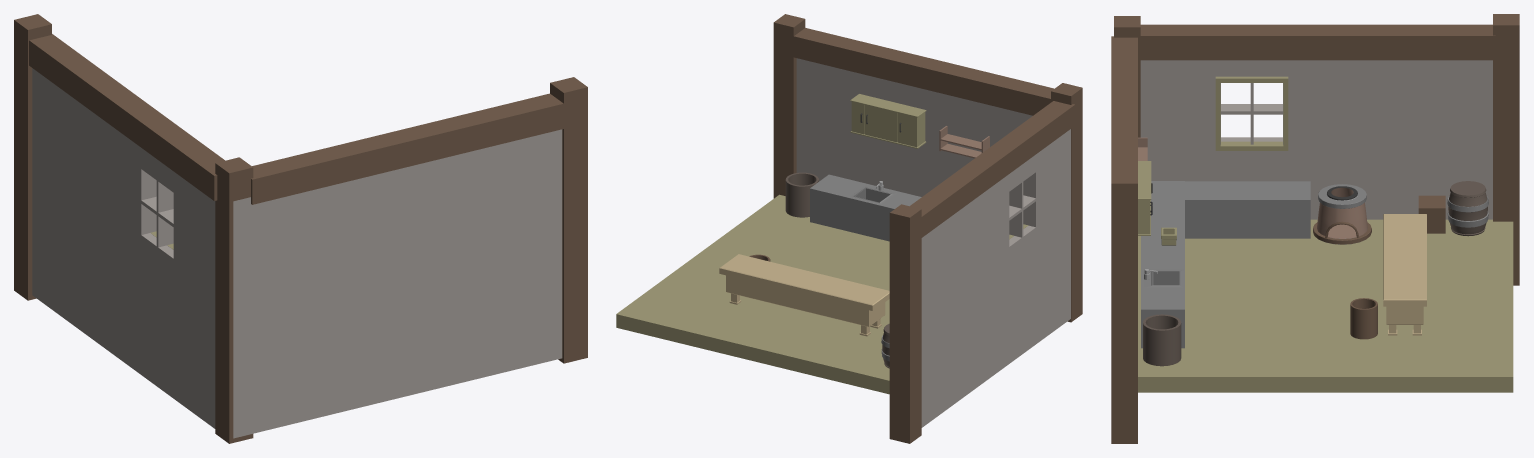
File: myo_Early1.fbx
3 views of the same model, side by side, from view 1: azimuth 30°, elevation 25°; view 2: azimuth 150°, elevation 25°; view 3: azimuth 270°, elevation 25° (orthographic). The views are drawn at different scales.
Visible parts, largest first — view 1: polySurface4, polySurface23, polySurface43, polySurface44, polySurface8, polySurface7, polySurface5; view 2: polySurface23, Ground, polySurface4, polySurface43, polySurface5, main_table, polySurface44, polySurface8, polySurface7, polySurface18, polySurface40, polySurface39 (+2 smaller); view 3: Ground, polySurface23, polySurface44, polySurface11, polySurface8, polySurface5, main_table, polySurface43, polySurface10, polySurface45, barrel02, polySurface13 (+8 smaller).
Boxes of the visible parts, <box> form: polySurface4: <box>233,129,562,438</box>; polySurface23: <box>32,68,215,428</box>; polySurface43: <box>251,93,564,204</box>; polySurface44: <box>29,34,224,200</box>; polySurface8: <box>550,77,587,363</box>; polySurface7: <box>215,157,253,443</box>; polySurface5: <box>14,14,51,300</box>; polySurface23: <box>921,129,1070,427</box>; Ground: <box>616,194,889,394</box>; polySurface4: <box>796,58,1032,196</box>; polySurface43: <box>792,28,1053,115</box>; polySurface5: <box>889,204,921,443</box>; main_table: <box>719,254,889,326</box>; polySurface44: <box>910,101,1075,237</box>; polySurface8: <box>773,14,805,198</box>; polySurface7: <box>1051,83,1082,322</box>; polySurface18: <box>850,94,926,148</box>; polySurface40: <box>810,174,866,231</box>; polySurface39: <box>848,184,899,239</box>; Ground: <box>1138,219,1513,392</box>; polySurface23: <box>1140,60,1492,219</box>; polySurface44: <box>1140,24,1495,60</box>; polySurface11: <box>1183,181,1310,238</box>; polySurface8: <box>1111,172,1137,443</box>; polySurface5: <box>1493,14,1519,285</box>; main_table: <box>1383,214,1426,324</box>; polySurface43: <box>1111,36,1137,172</box>; polySurface10: <box>1141,181,1184,269</box>; polySurface45: <box>1313,184,1371,244</box>; barrel02: <box>1447,181,1488,236</box>; polySurface13: <box>1143,314,1181,366</box>.
Bounding box in the file's own units: 908 × 649 × 924.
